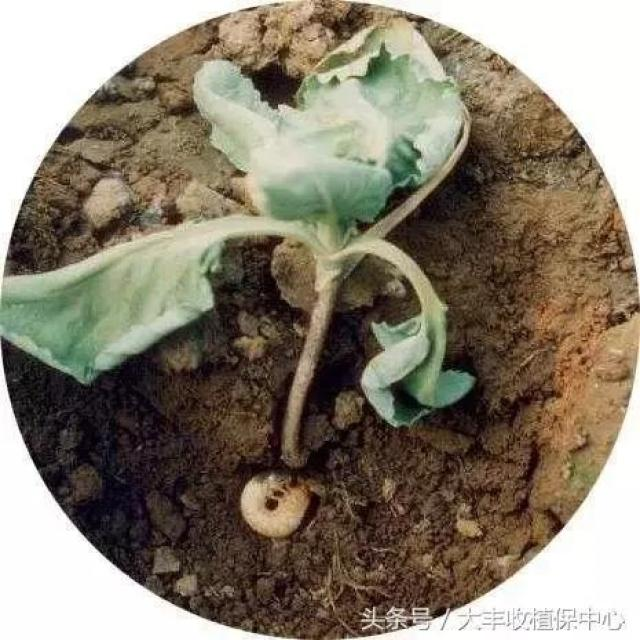grub: (237, 456, 321, 544)
